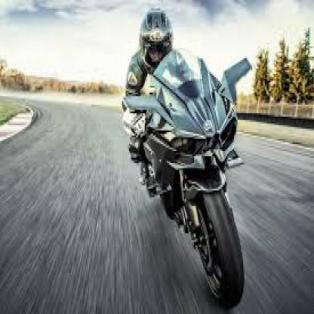Motocicleta: (110, 60, 254, 306)
